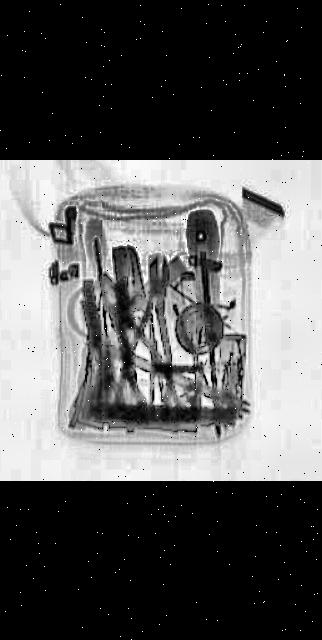Pliers: (73, 268, 183, 406), (110, 252, 188, 406)
